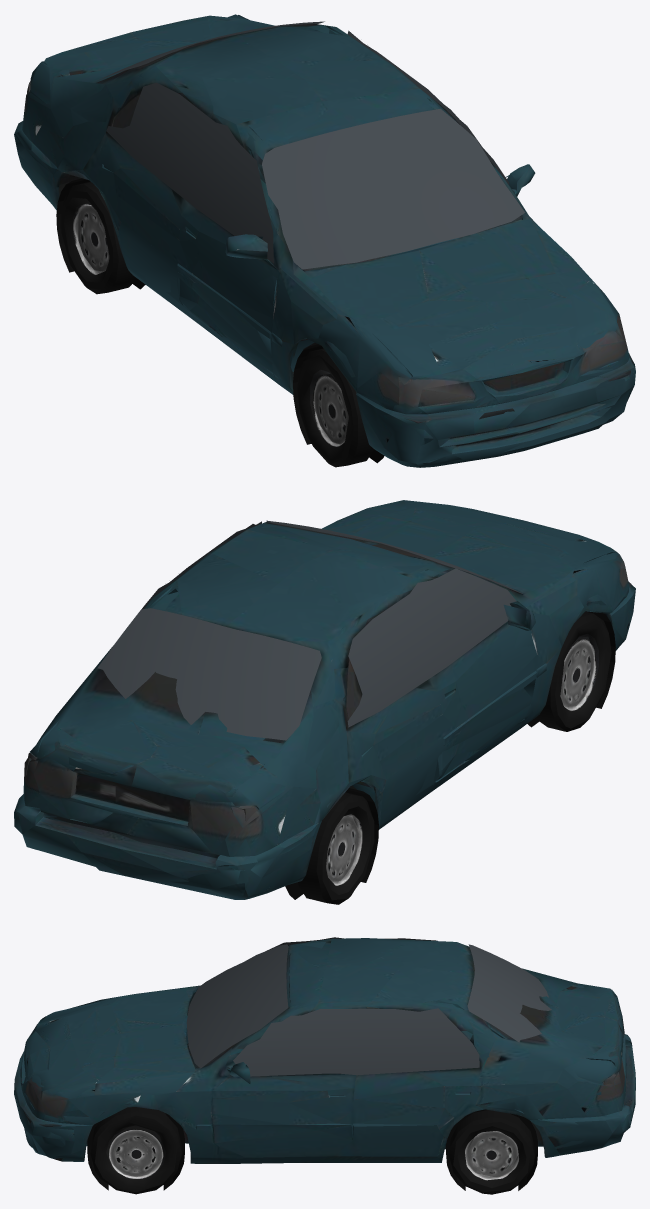
The model's file is sedan-clean.glb.
3 renders of one model, top to bottom at view 1: azimuth 30°, elevation 25°; view 2: azimuth 150°, elevation 25°; view 3: azimuth 270°, elevation 25°, orthographic. The views are drawn at different scales.
Parts seen in each view (by area): view 1: body, glass, wheel_fr, wheel_rr; view 2: body, glass, wheel_rr, wheel_fr; view 3: body, glass, wheel_fl, wheel_rl.
Boxes of the visible parts, box(x1,y1,x2,y2) form: body: box(14, 14, 635, 467); glass: box(96, 21, 525, 269); wheel_fr: box(297, 348, 374, 467); wheel_rr: box(61, 181, 135, 294); body: box(14, 500, 635, 899); glass: box(97, 520, 522, 740); wheel_rr: box(297, 792, 374, 904); wheel_fr: box(536, 611, 611, 731); body: box(14, 938, 635, 1190); glass: box(186, 937, 551, 1076); wheel_fl: box(90, 1107, 181, 1194); wheel_rl: box(449, 1110, 534, 1194).
Size of the model in its own units: 2.03 by 1.54 by 4.75.
Materials: 3 (2 with a texture image).
